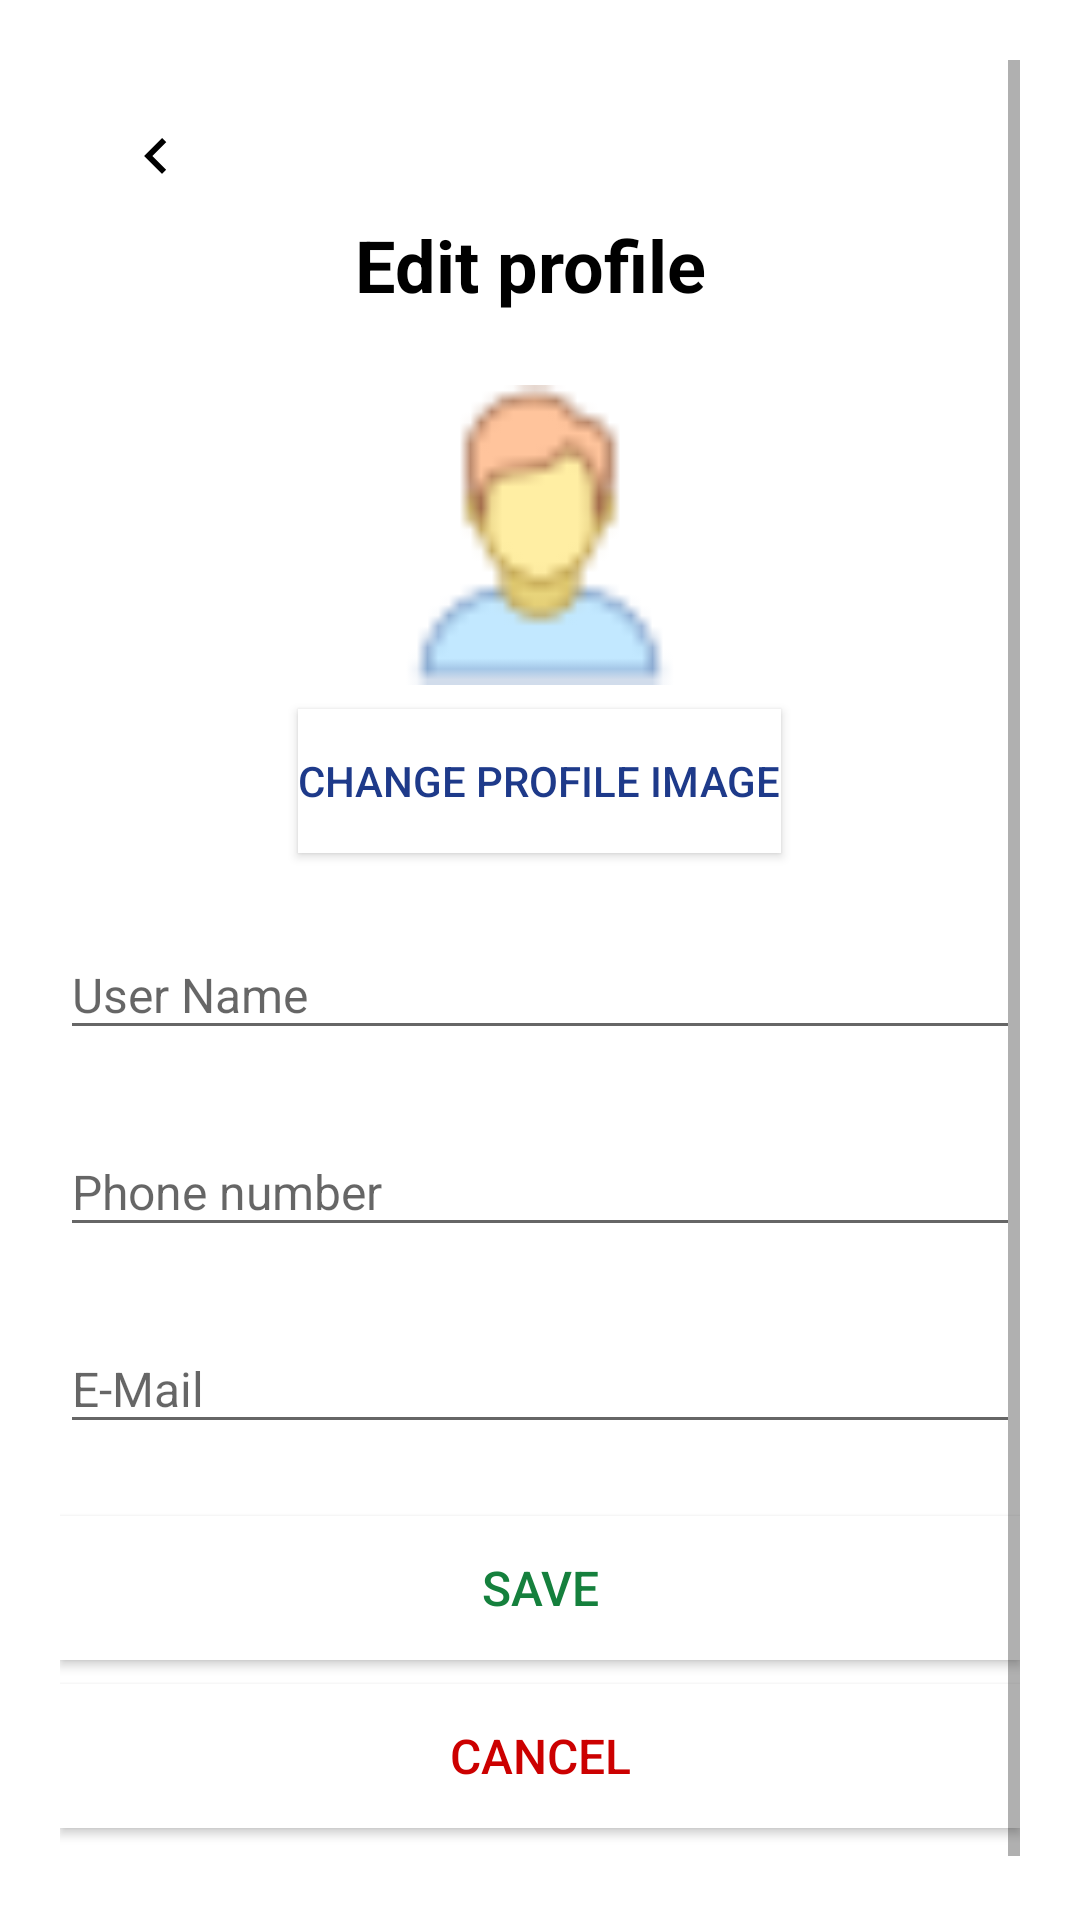

Icons on this 1080*1920 Android screen, each with its box as (x1, y1, x2, y2):
Back: (144, 138, 166, 174)
